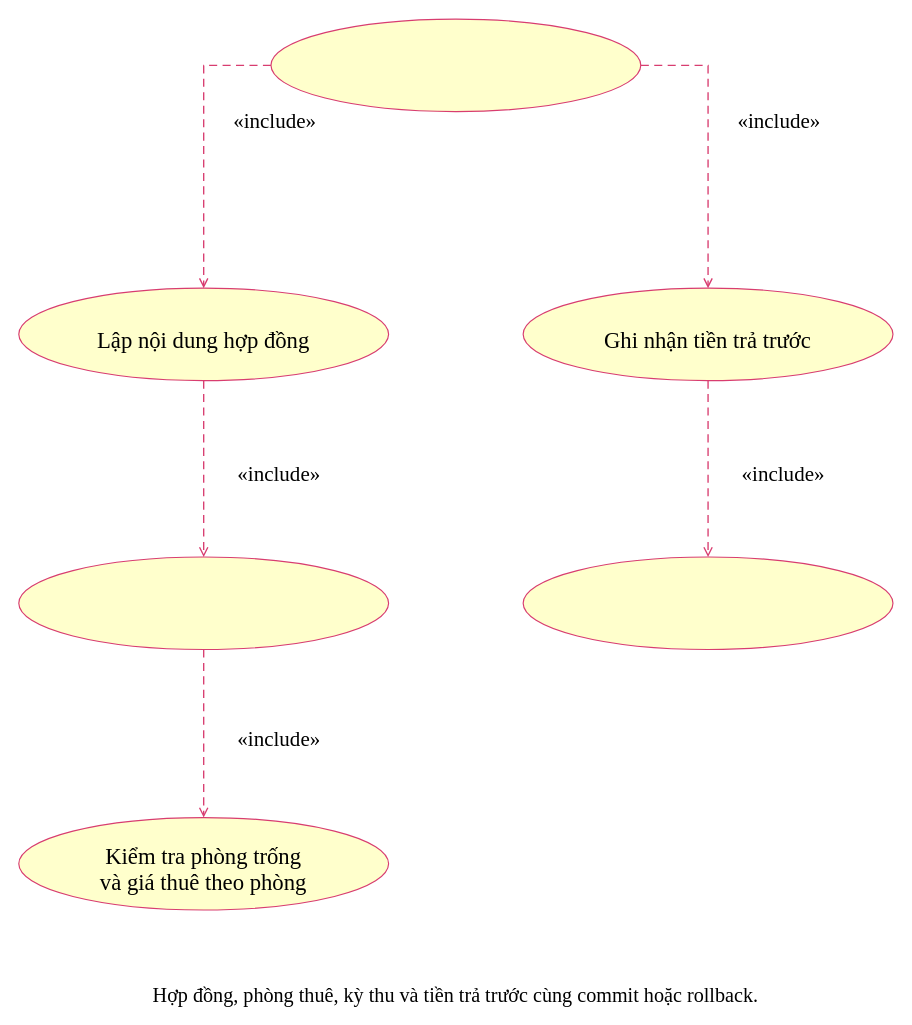
This 912x1025 diagram has some shape labels left out. Each missing label, with the centre of its shape:
Chọn khách hàng, phòng và thời hạn ít nhất 6 tháng: pixel 203 602
Ký hợp đồng thuê văn phòng: pixel 455 65
Xác nhận nhận đủ tiền 6 tháng của từng phòng: pixel 707 602
